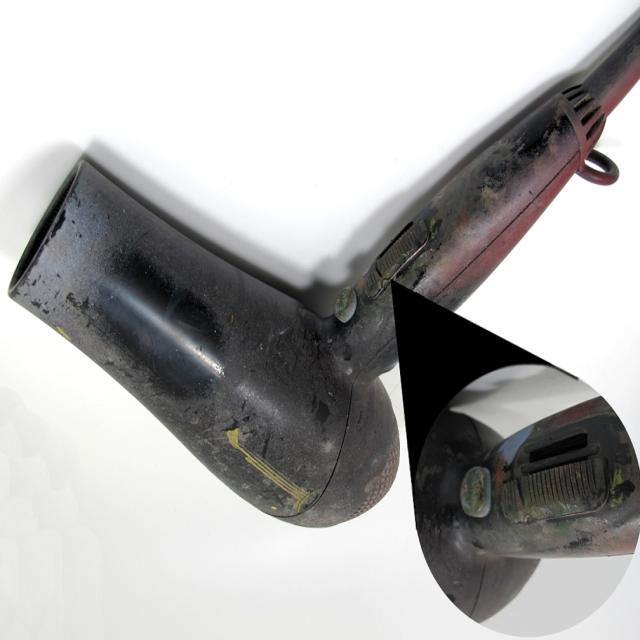dryer: (5, 45, 632, 542)
